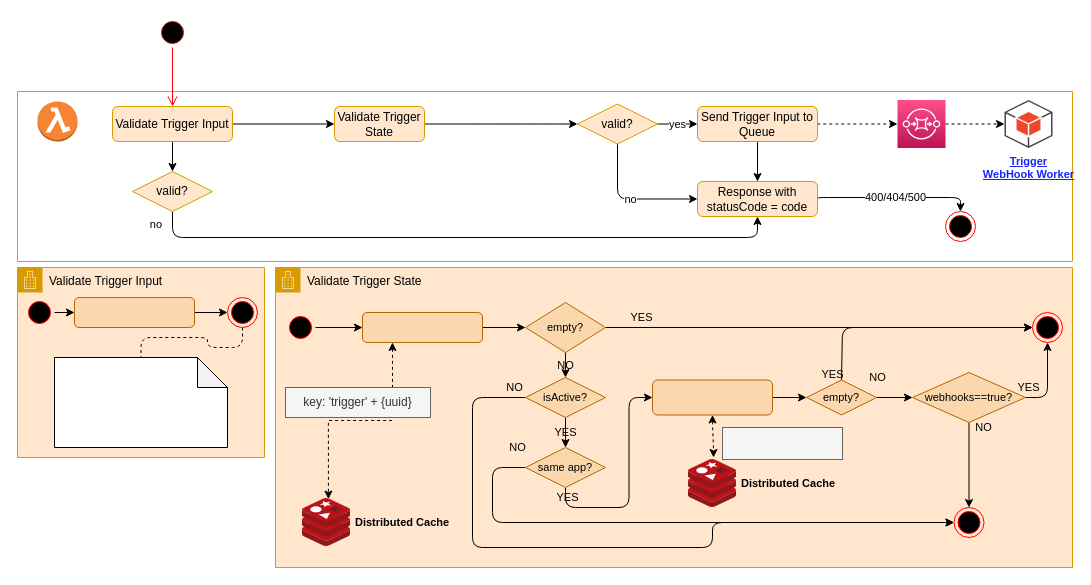
Some shapes in this 1091 by 585 pixel diagram are drawn without their labels. The shapes that lost their labels are listed below. From the top down, each one's box as (x1, y1, x2, y2) in pixels, then its label:
(36, 100, 78, 142): input-trigger
(896, 99, 946, 148): trigger-input
(74, 296, 194, 328): app && uuid && contact.hasPhone()
(362, 312, 482, 342): Get Trigger
(1032, 312, 1062, 342): Valid
(54, 356, 228, 448): 0 ------------------------------- { code: 400 message: "Data required" }
(652, 379, 772, 415): Get Organization Permissions
(722, 426, 842, 460): key 'permissions_' + {organizationId}
(953, 506, 984, 538): Invalid
